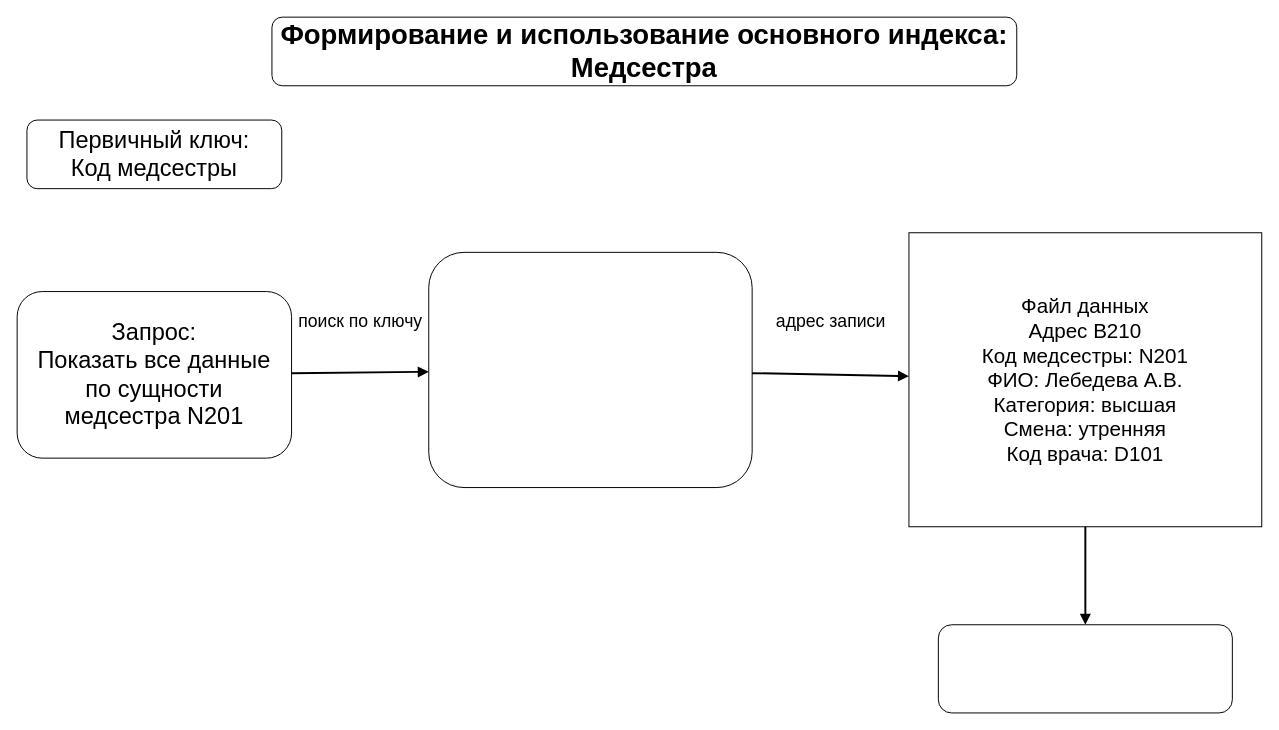
The diagram is 1279 pixels wide and 730 high, and some of its shapes have lost their labels. The shapes that lost their labels are listed below. From the top down, each one's centre as x and y in pixels, then its label:
At [590,369]: "Основной индекс N201 → B210 N202 → B230 N203 → B250".
At [1084,668]: "Результат: полная запись сущности".
